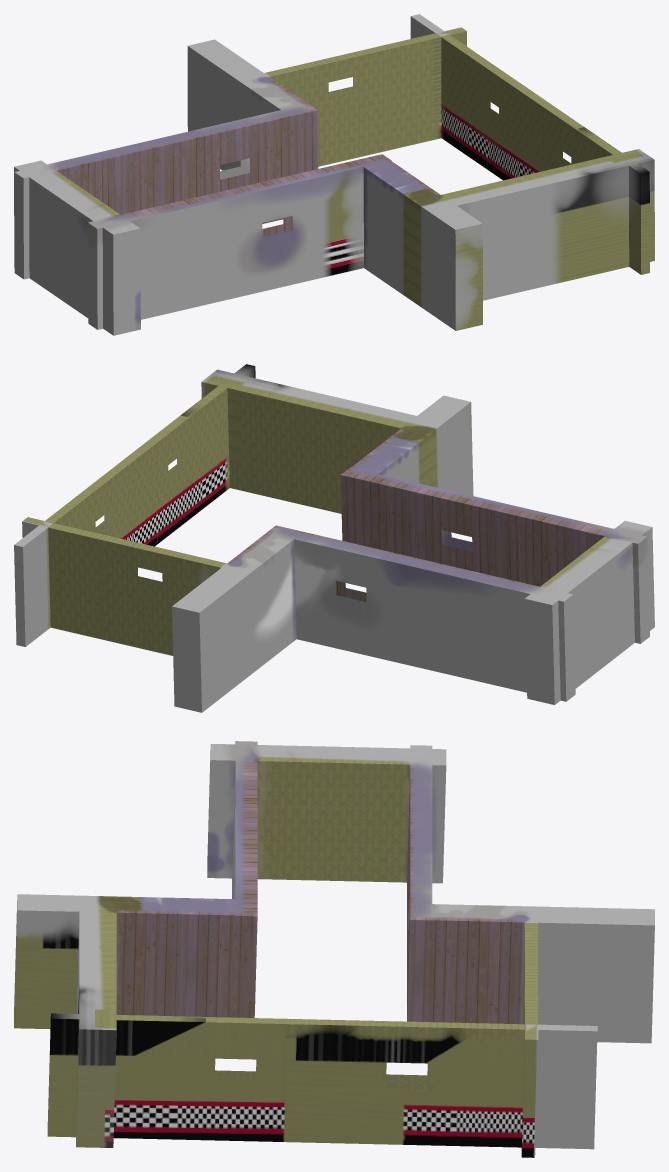
The model's file is wALLS.fbx.
3 views of the same model, one above another, from view 1: azimuth 30°, elevation 25°; view 2: azimuth 150°, elevation 25°; view 3: azimuth 270°, elevation 25° (orthographic). The views are drawn at different scales.
Visible parts, largest first — view 1: wALLS; view 2: wALLS; view 3: wALLS.
Boxes of the visible parts, bbox=[...] form: wALLS: bbox=[14, 14, 654, 335]; wALLS: bbox=[14, 364, 654, 712]; wALLS: bbox=[14, 741, 654, 1157].
Bounding box in the file's own units: 37499 × 8261 × 35563.
Materials: 1 (1 with a texture image).
